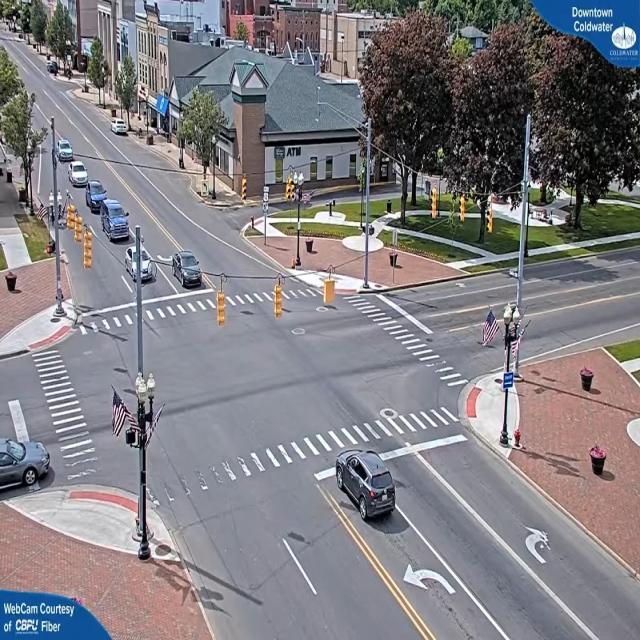car: (334, 452, 398, 522), (0, 434, 52, 491), (122, 245, 156, 282), (173, 251, 204, 288), (102, 203, 131, 241), (86, 180, 107, 213), (68, 162, 87, 187), (55, 137, 73, 160), (112, 122, 131, 138)
